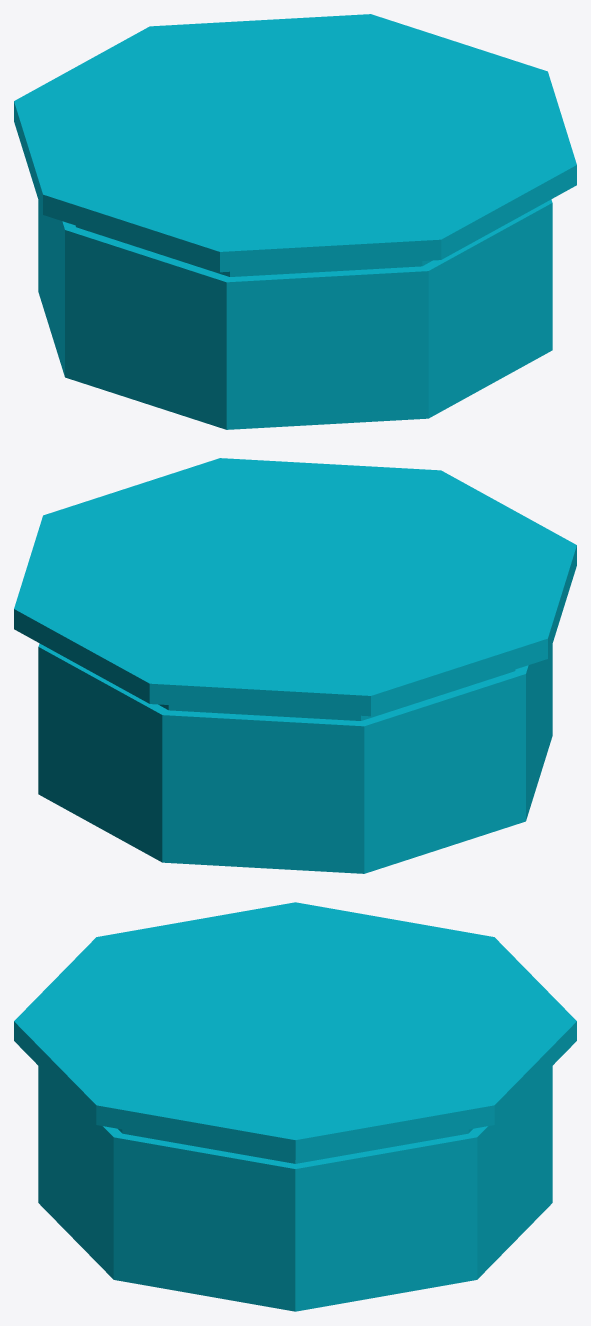
File: LandingPad.fbx
3 renders of one model, top to bottom at view 1: azimuth 30°, elevation 25°; view 2: azimuth 150°, elevation 25°; view 3: azimuth 270°, elevation 25°, orthographic. The views are drawn at different scales.
Visible parts, largest first — view 1: Cylinder.004; view 2: Cylinder.004; view 3: Cylinder.004.
Part boxes in pixels (<box>): Cylinder.004: <box>14,14,576,429</box>; Cylinder.004: <box>14,458,576,873</box>; Cylinder.004: <box>14,902,576,1311</box>.
Bounding box in the file's own units: 28.56 × 10.18 × 28.56.
